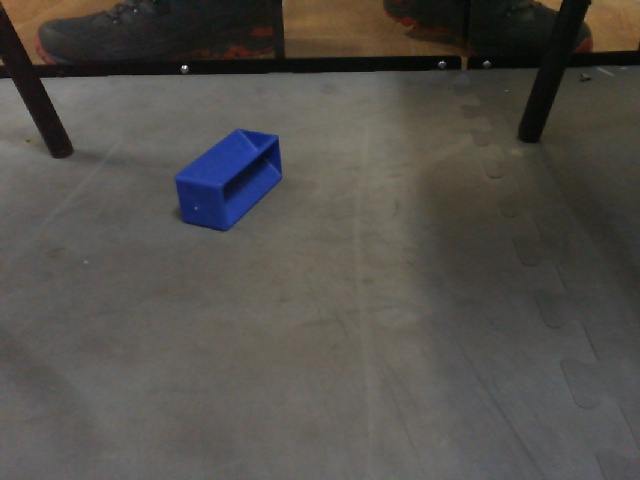BlueSample: (172, 127, 286, 235)
